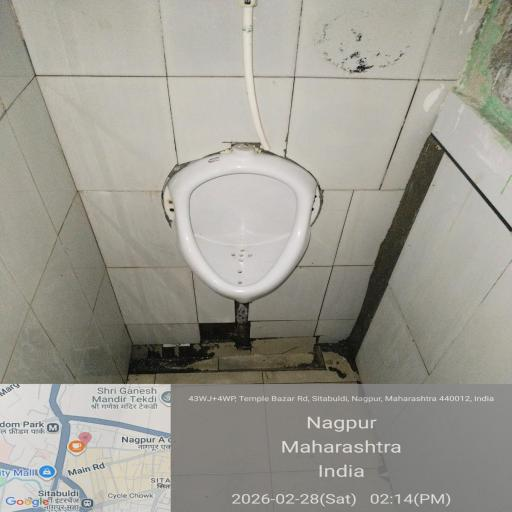clean_floor: (23, 34, 461, 108)
clean_urinal: (145, 148, 372, 328)
partial_dirty_floor: (42, 296, 390, 512)
